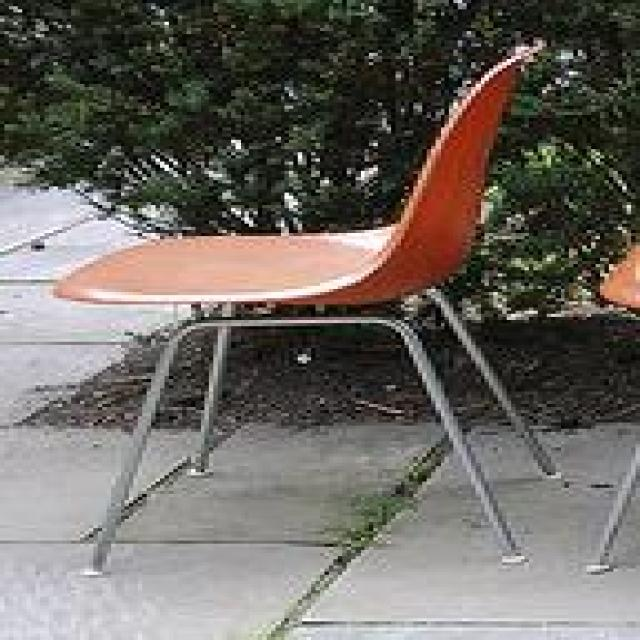chair: (49, 37, 564, 575)
